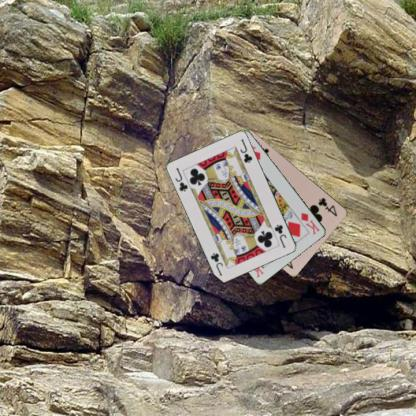4c: (316, 195, 338, 218)
Jc: (172, 165, 190, 193), (272, 222, 288, 249)
Kd: (299, 210, 321, 236)
